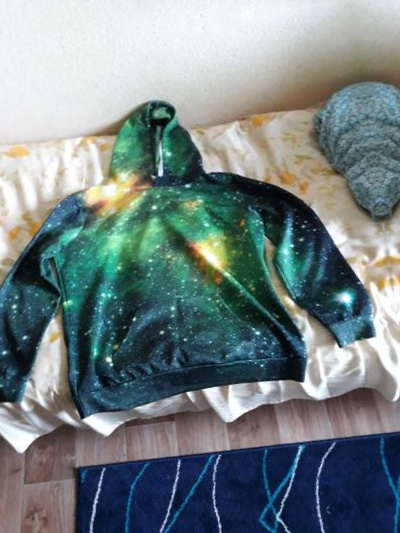Hoodie: (0, 69, 377, 454), (392, 5, 400, 390)
